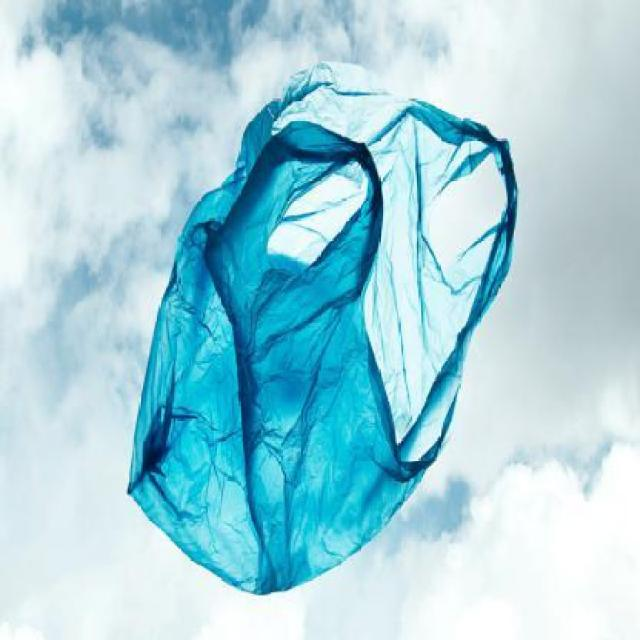plastic bag: (123, 54, 520, 603)
